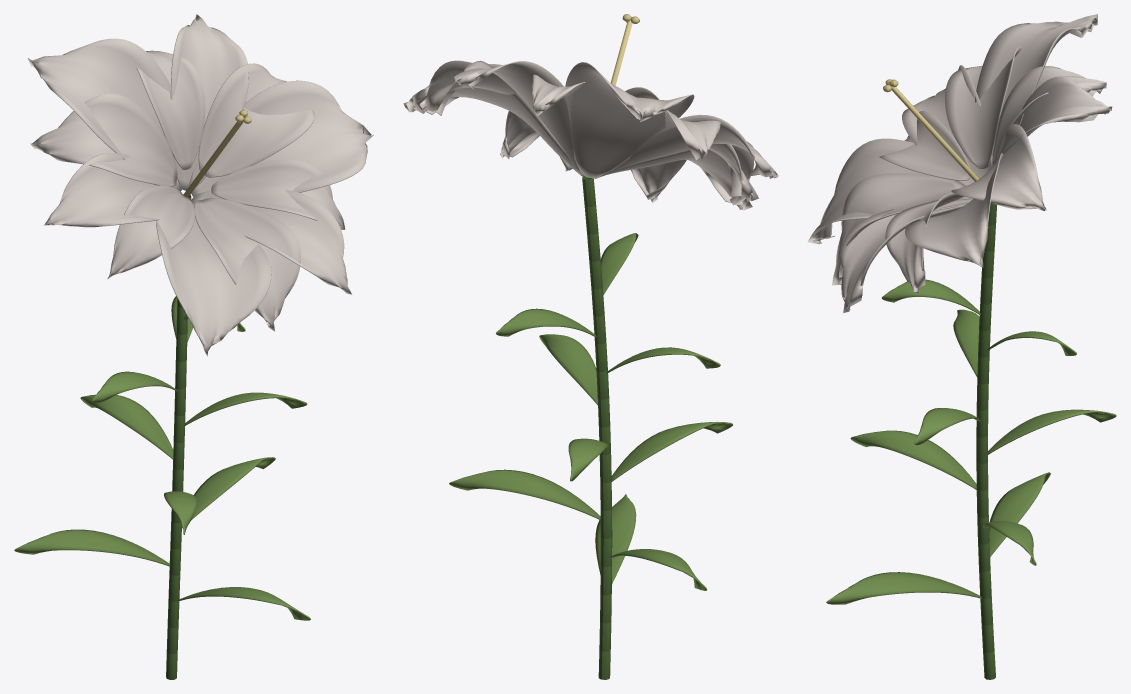
Rendered from true-lily-legendary-v2.glb.
3 renders of one model, left to right at view 1: azimuth 30°, elevation 25°; view 2: azimuth 150°, elevation 25°; view 3: azimuth 270°, elevation 25°, orthographic. The views are drawn at different scales.
Visible parts, largest first — view 1: true-lily-legendary-v2-petal, true-lily-legendary-v2-leaf, true-lily-legendary-v2-stem, true-lily-legendary-v2-center; view 2: true-lily-legendary-v2-petal, true-lily-legendary-v2-leaf, true-lily-legendary-v2-stem; view 3: true-lily-legendary-v2-petal, true-lily-legendary-v2-leaf, true-lily-legendary-v2-stem, true-lily-legendary-v2-center.
Part boxes in pixels (x1,y1,x2,y2): true-lily-legendary-v2-petal: (27,14,373,356); true-lily-legendary-v2-leaf: (14,296,310,620); true-lily-legendary-v2-stem: (166,194,191,679); true-lily-legendary-v2-center: (183,109,251,197); true-lily-legendary-v2-petal: (403,60,778,210); true-lily-legendary-v2-leaf: (449,233,732,590); true-lily-legendary-v2-stem: (582,175,612,679); true-lily-legendary-v2-petal: (807,14,1112,313); true-lily-legendary-v2-leaf: (826,279,1116,604); true-lily-legendary-v2-stem: (976,203,996,679); true-lily-legendary-v2-center: (883,79,979,181).
Bounding box in the file's own units: 1.26 × 2.17 × 0.9569.
